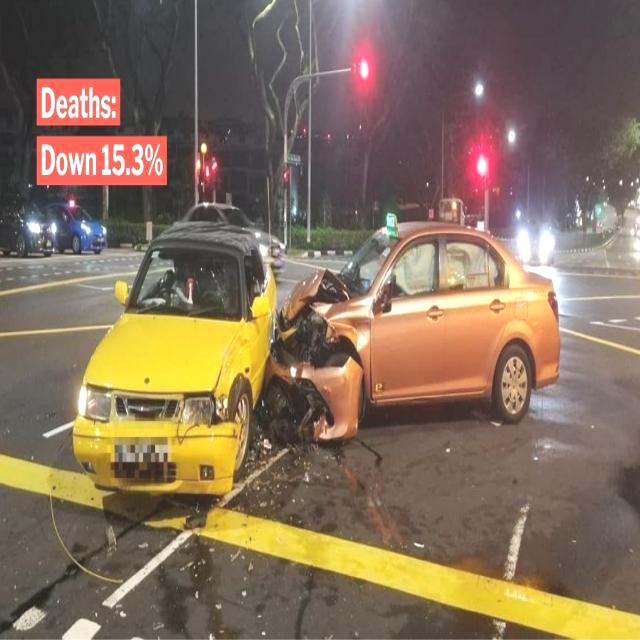accident: (71, 224, 561, 560)
non-accident: (0, 199, 110, 257)
